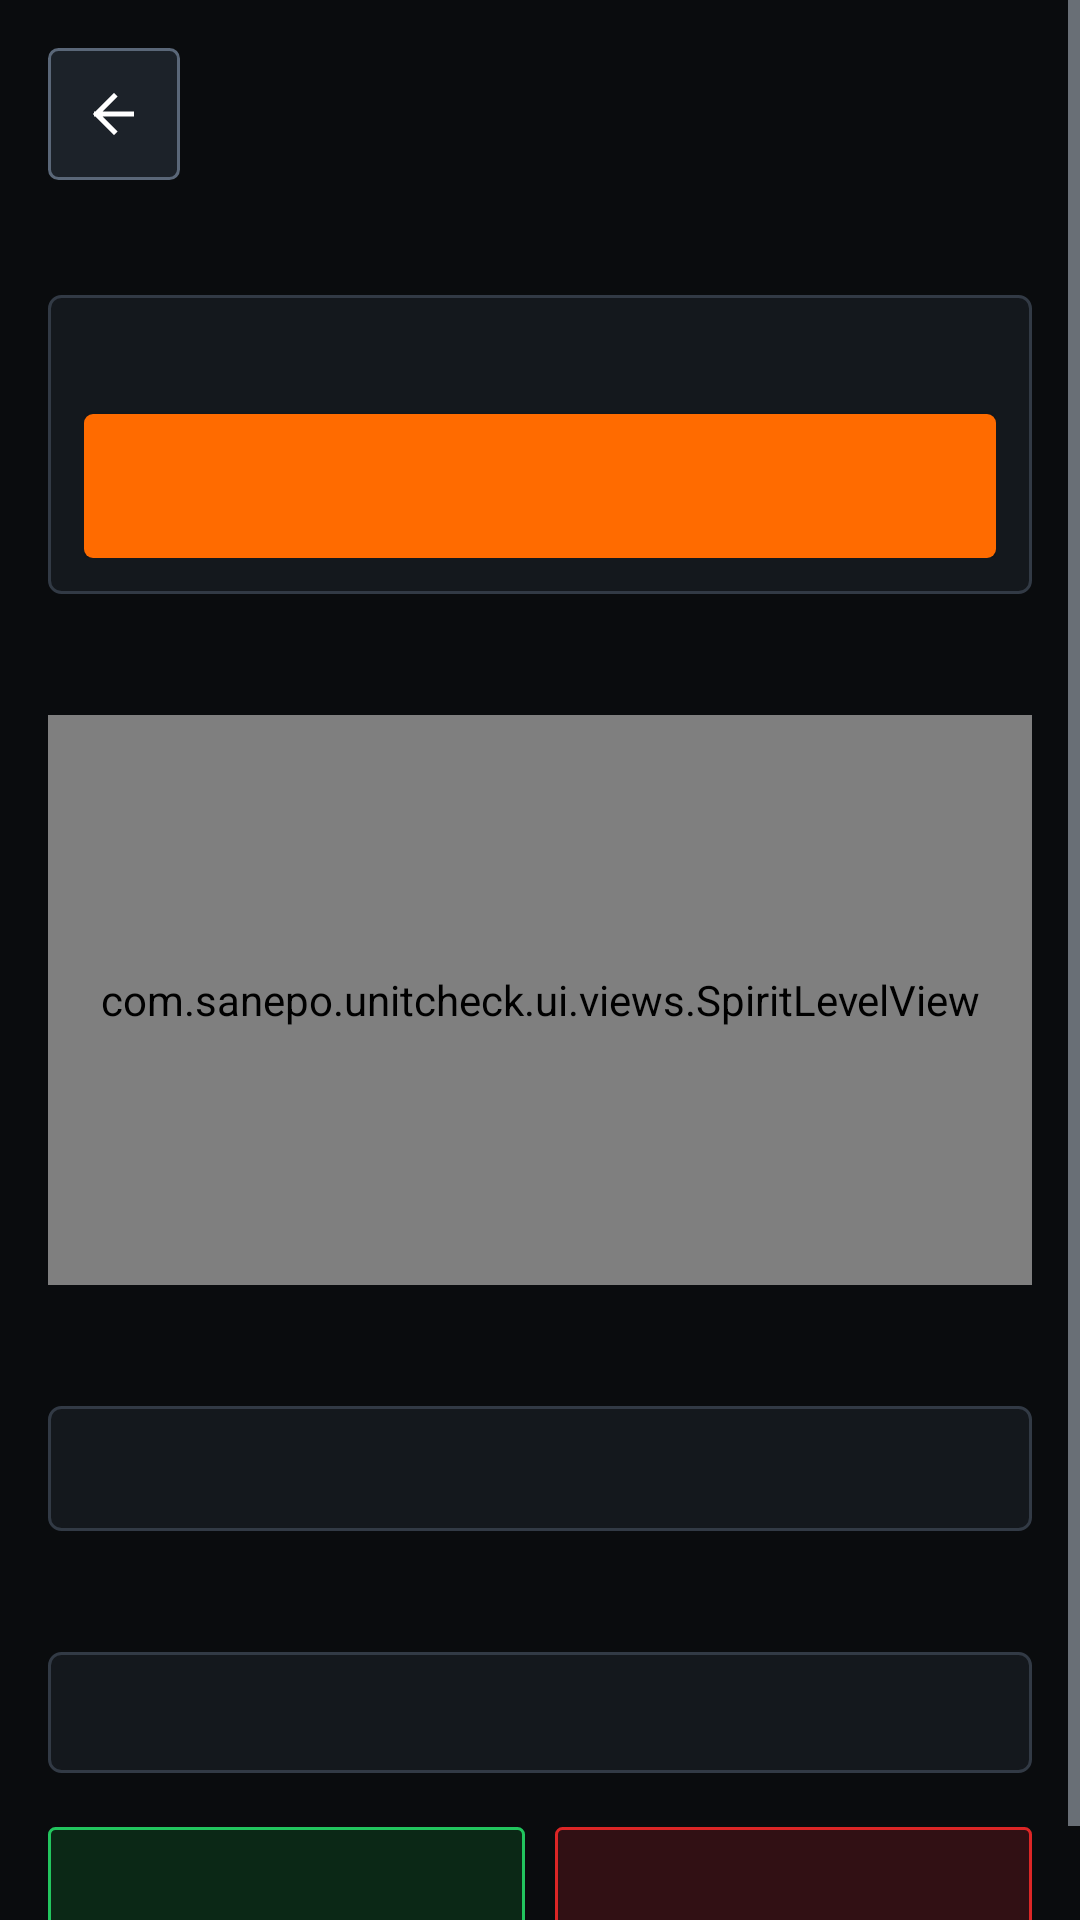

Where to tap for icons on this 1080 × 1920 app screen, as point (x, y):
Back: point (114, 114)
